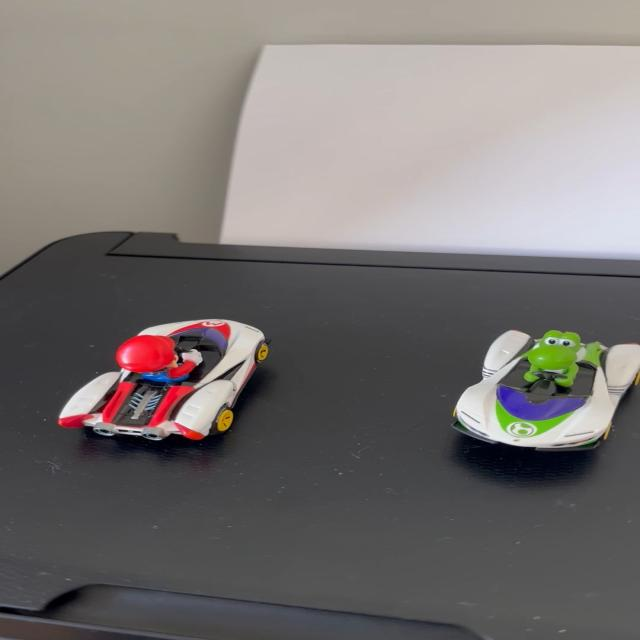mario: (38, 308, 288, 450)
yoshi: (435, 314, 637, 458)
